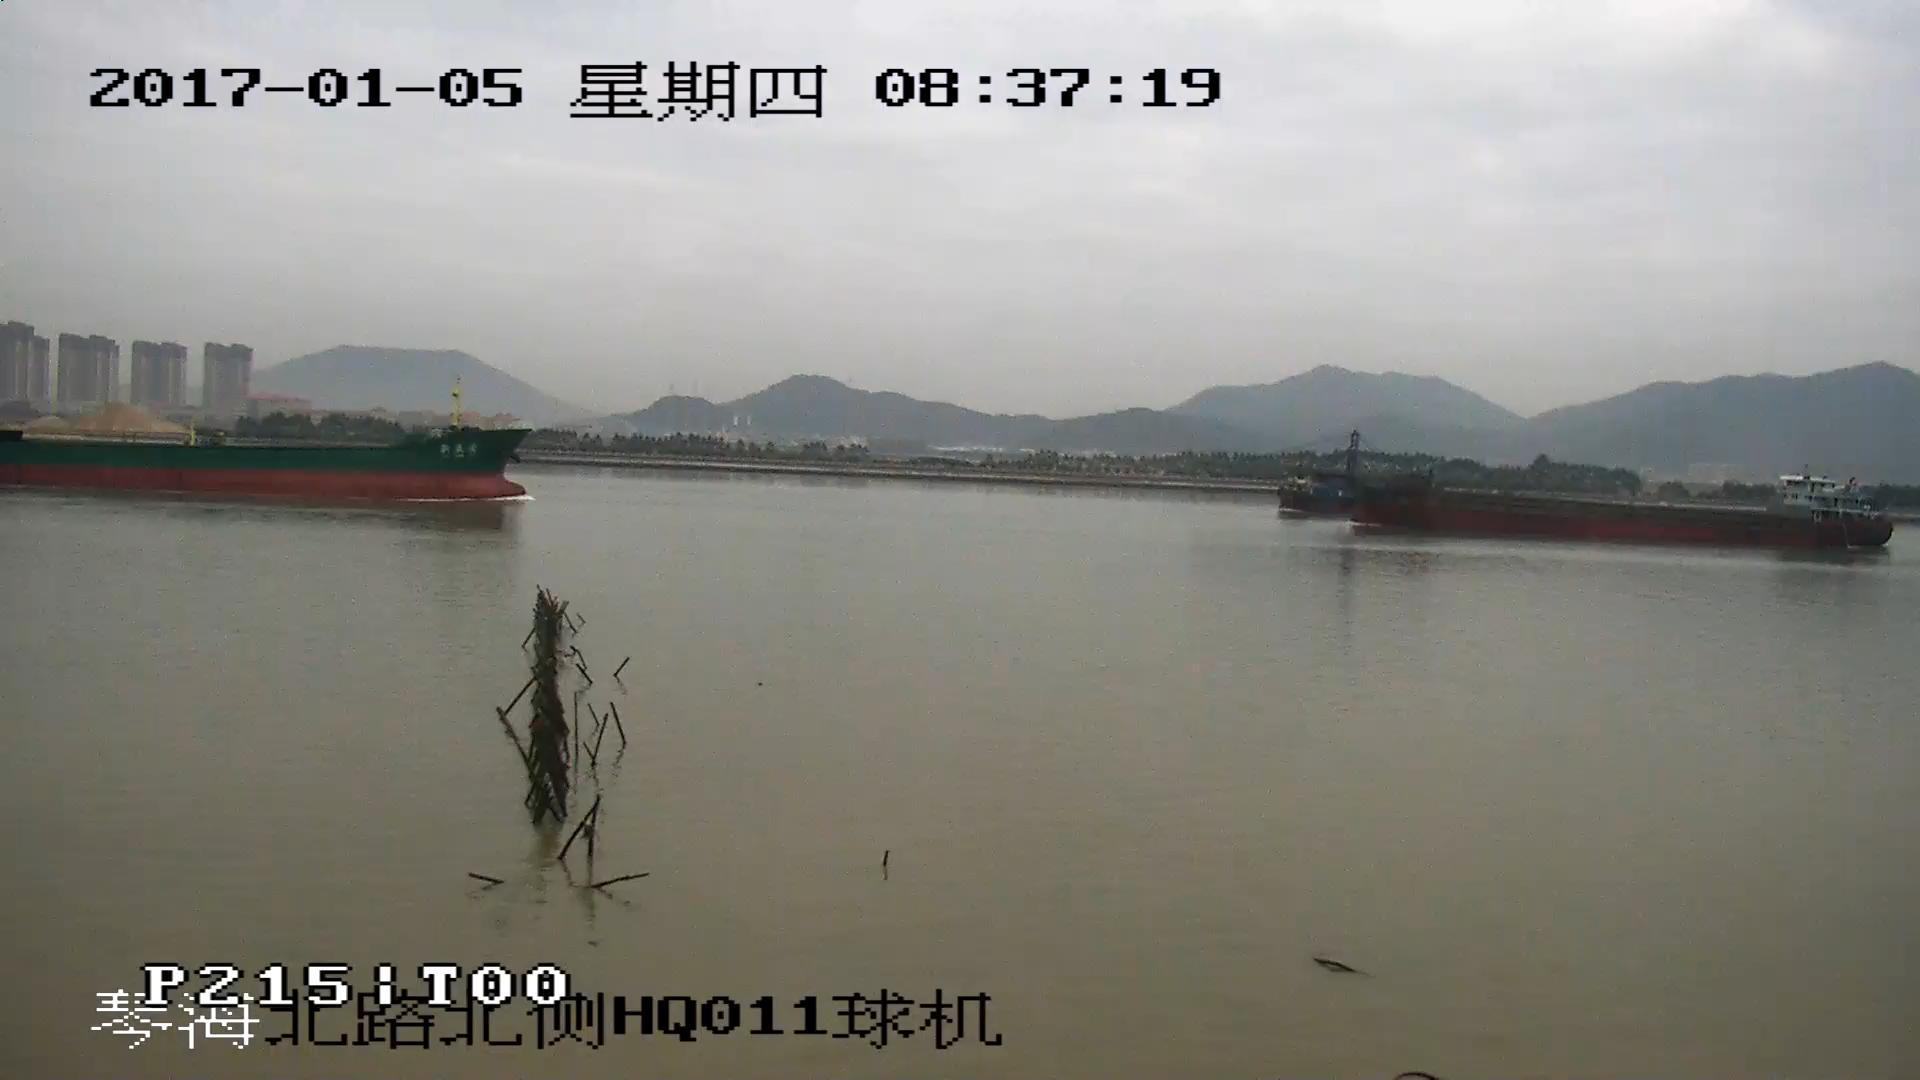Ship: (1284, 438, 1888, 550), (3, 381, 534, 502)
